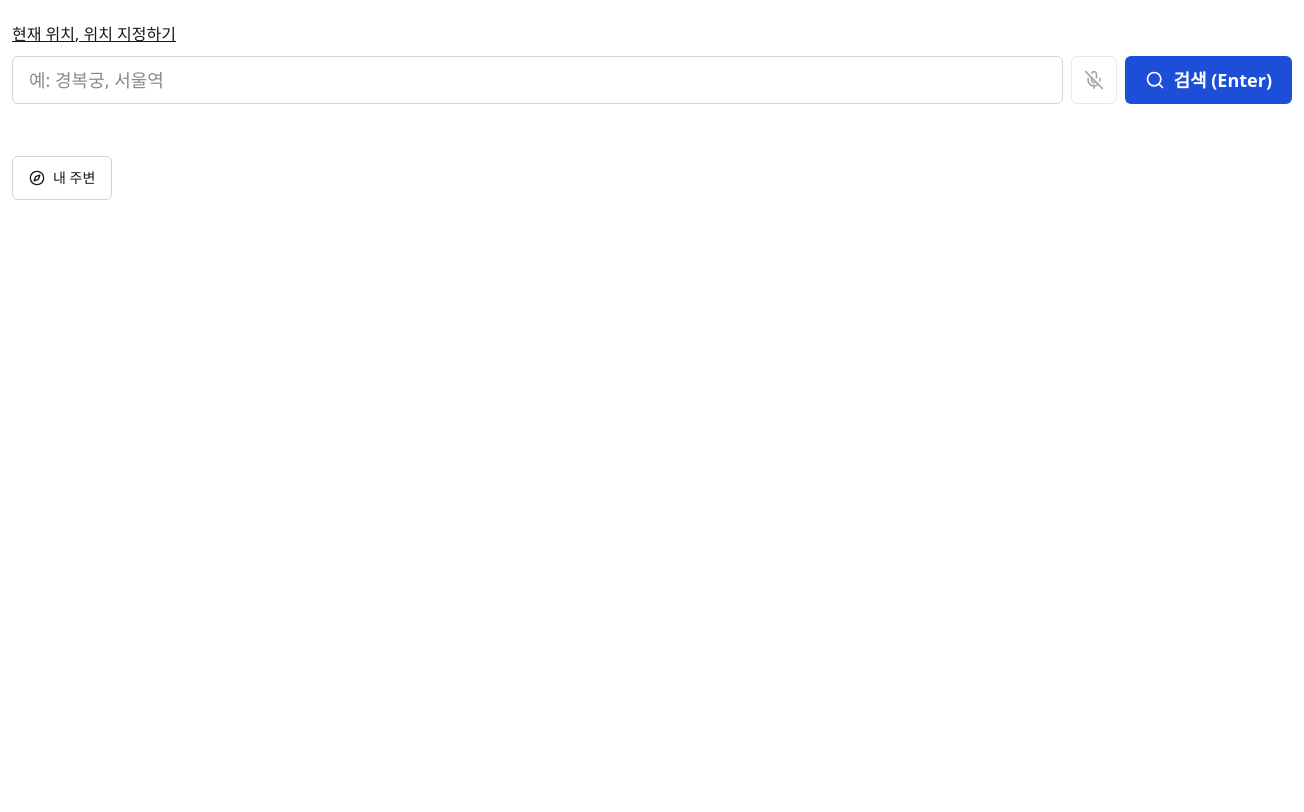
PlaceSearch — 리뷰순 토글 › ko+키: 검색 후 토글이 뜨고, 누르면 sort=review로 재조회·라벨 전환·포커스 유지·URL 동기화
The width and height of the screenshot is (1304, 812).
Type "길동 맛집" into the search field at coordinates (538, 80), box top-left (12, 56), bottom-right (1064, 104)
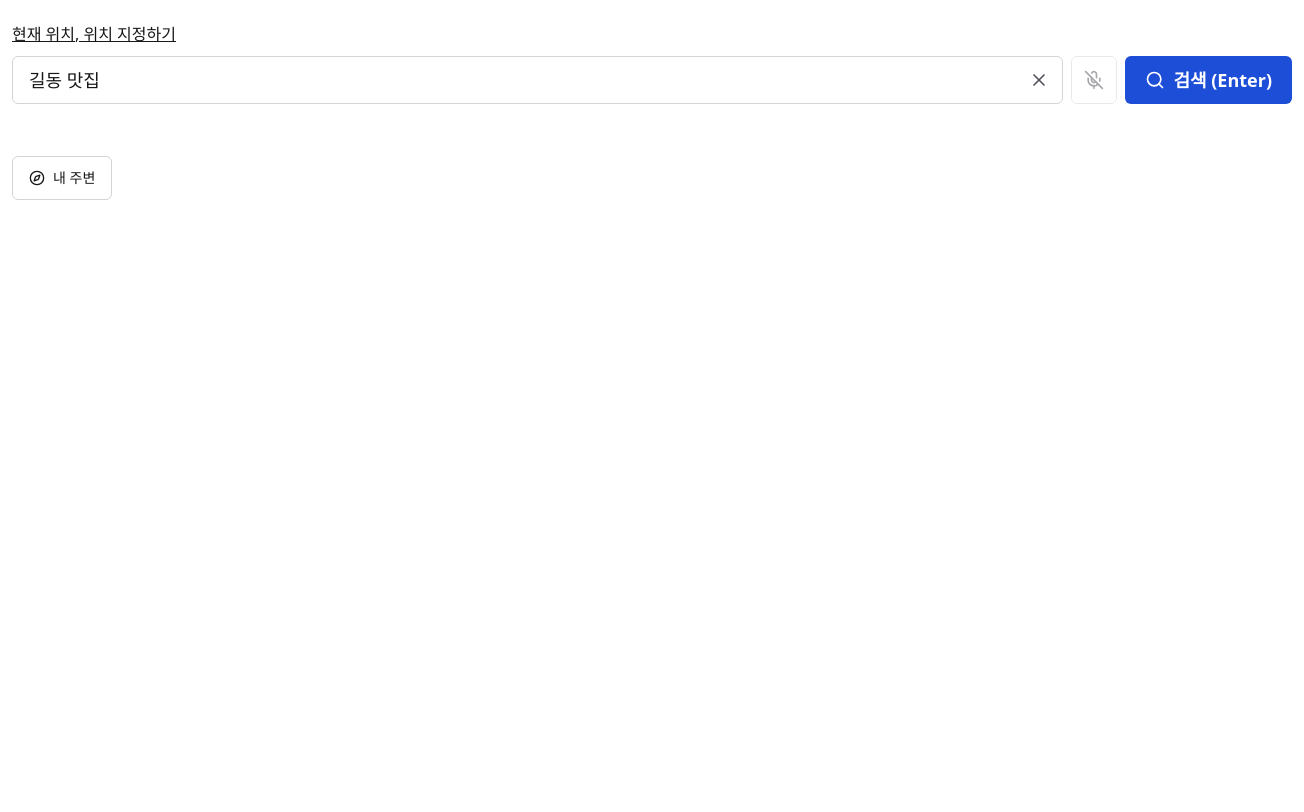
Submit the form, box top-left (12, 56), bottom-right (1292, 104)
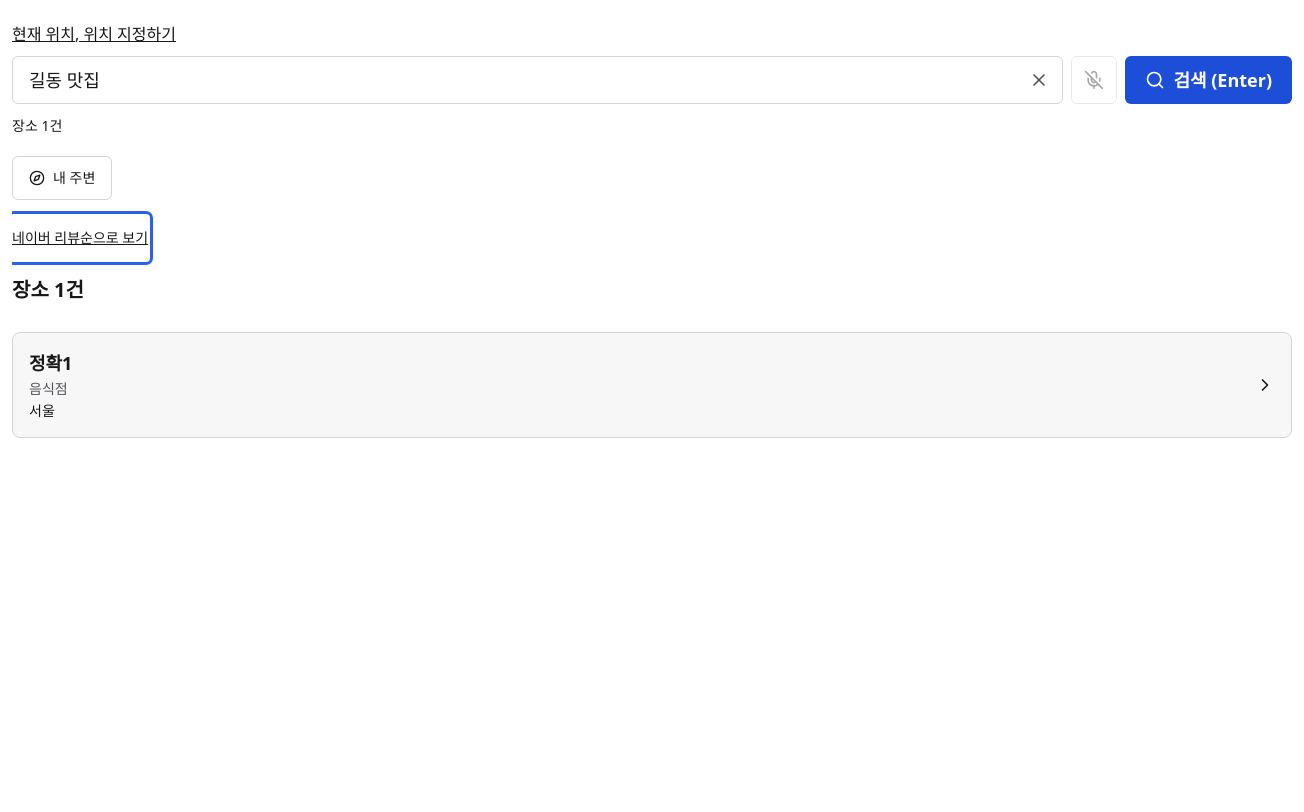
Check: the text "정확1" is shown, box top-left (29, 349), bottom-right (72, 377)
Click the button "네이버 리뷰순으로 보기" at coordinates (80, 238), box top-left (12, 216), bottom-right (148, 260)
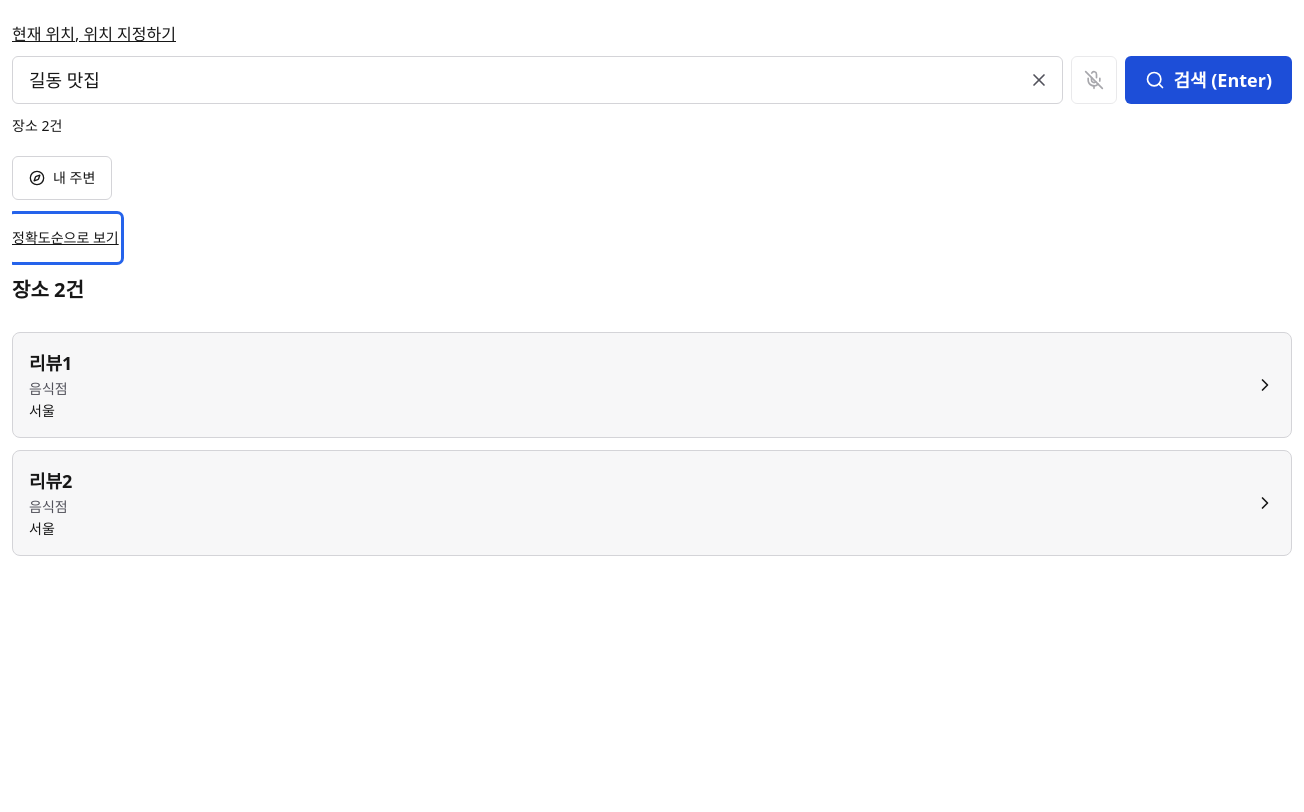
Check: the button "정확도순으로 보기" is shown
Check: the text "리뷰1" is shown, box top-left (29, 349), bottom-right (72, 377)
Click the button "정확도순으로 보기" at coordinates (65, 238), box top-left (12, 216), bottom-right (119, 260)
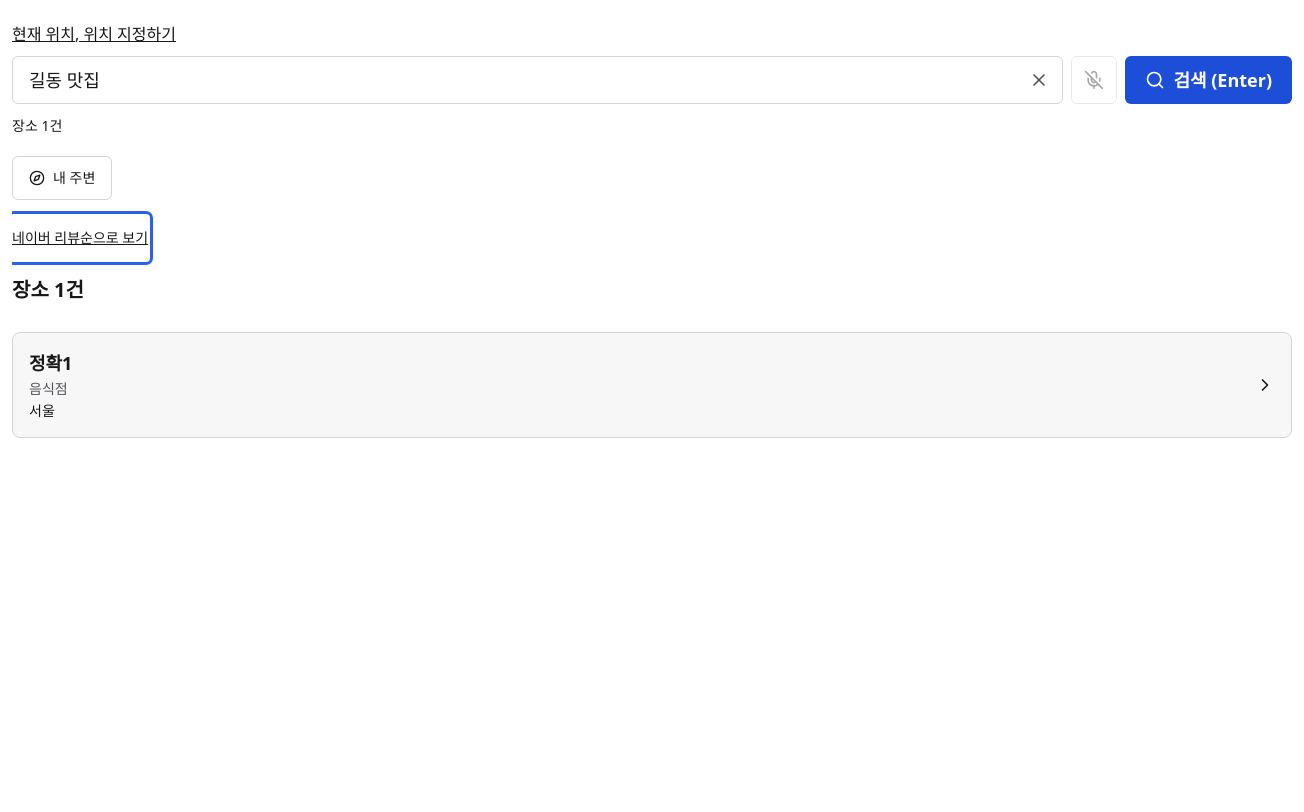
Check: the button "네이버 리뷰순으로 보기" is shown, box top-left (12, 216), bottom-right (148, 260)
